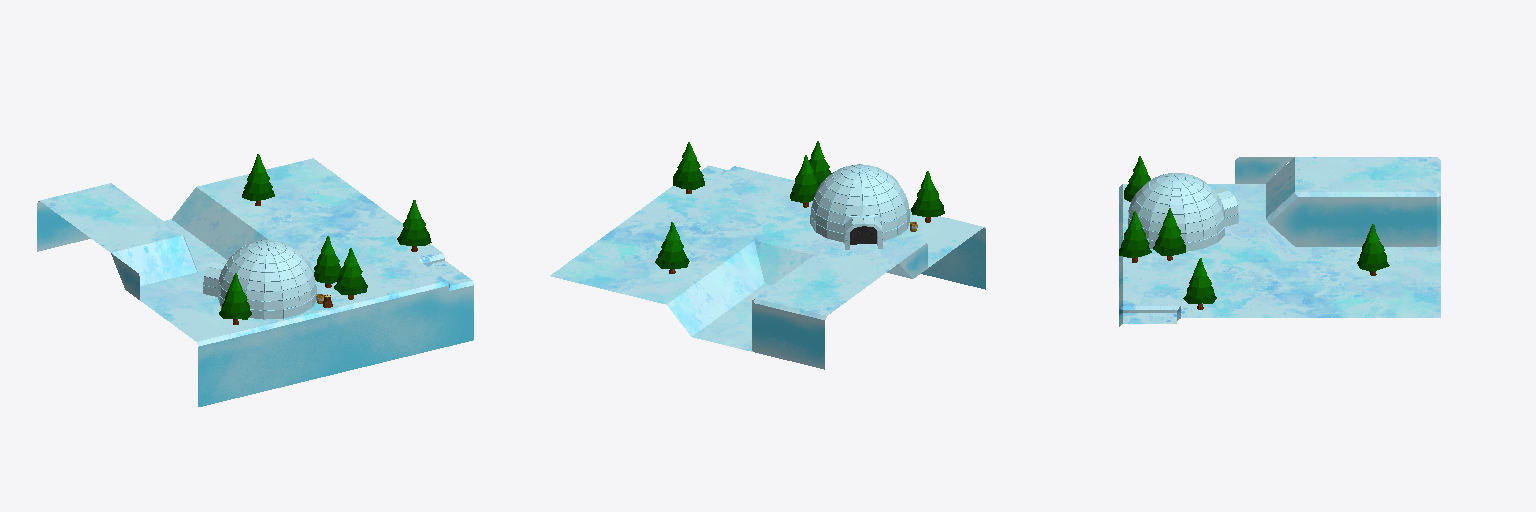
The picture shows the model from 3 angles: view 1: azimuth 30°, elevation 25°; view 2: azimuth 150°, elevation 25°; view 3: azimuth 270°, elevation 25°; orthographic projection.
Visible parts, largest first — view 1: Cube.224, Igluu.001, Arbol.007, Arbol.008; view 2: Cube.224, Igluu.001, Arbol.007, Arbol.008; view 3: Cube.224, Igluu.001, Arbol.007, Arbol.008.
Part boxes in pixels (x1,y1,x2,y2): Cube.224: (37,158,473,406); Igluu.001: (203,236,367,324); Arbol.007: (397,200,431,251); Arbol.008: (242,154,274,205); Cube.224: (550,165,985,369); Igluu.001: (790,141,944,249); Arbol.007: (673,142,704,193); Arbol.008: (655,222,689,273); Cube.224: (1119,157,1440,326); Igluu.001: (1119,156,1238,262); Arbol.007: (1183,258,1216,309); Arbol.008: (1357,224,1389,275).
Size of the model in its own units: 99 by 40.47 by 100.
Materials: 3 (1 with a texture image).